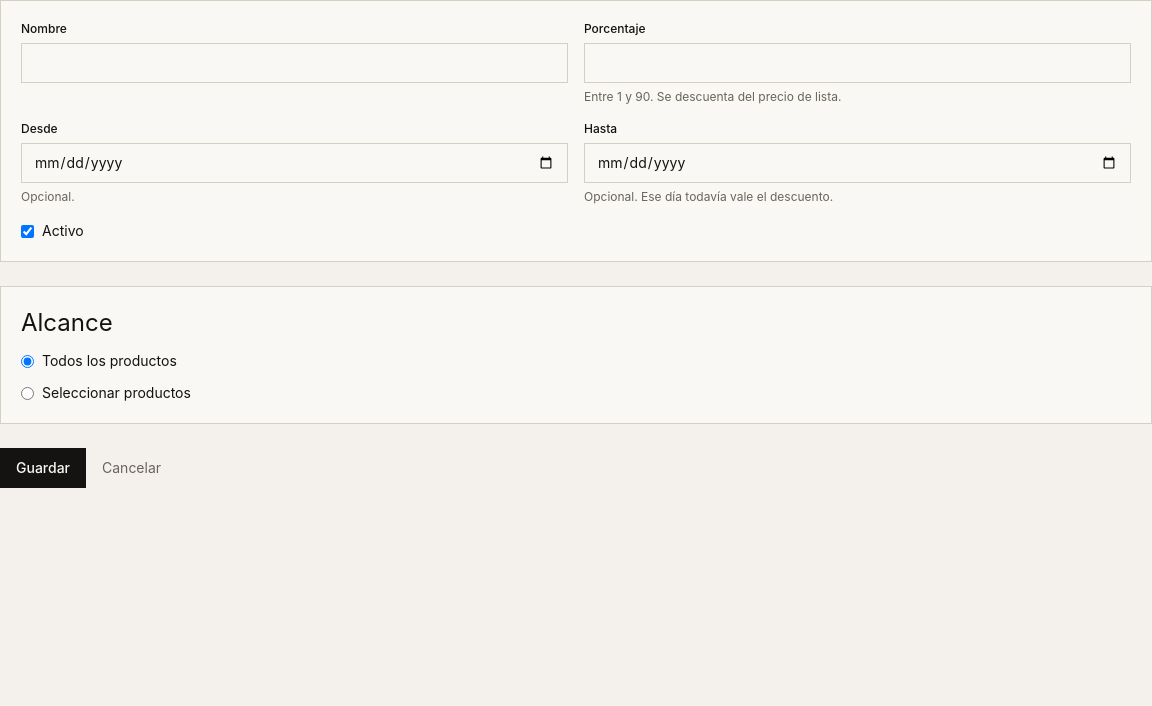
DiscountForm › shows the picker only for the selected scope
The image size is (1152, 706).
Click the radio button labelled "Seleccionar productos".
click(28, 393)  # box [21, 386, 34, 400]
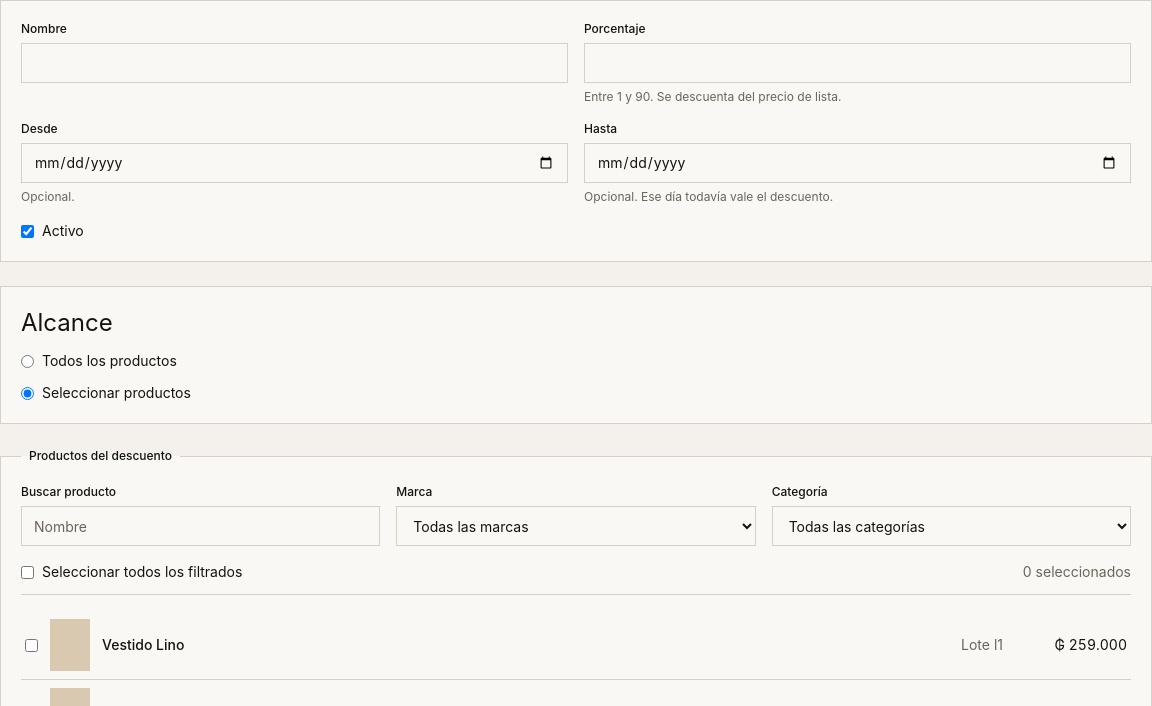
Check: the text "0 seleccionados" is shown, box [1023, 562, 1131, 582]
Click the radio button labelled "Todos los productos".
click(28, 361)  # box [21, 354, 34, 368]
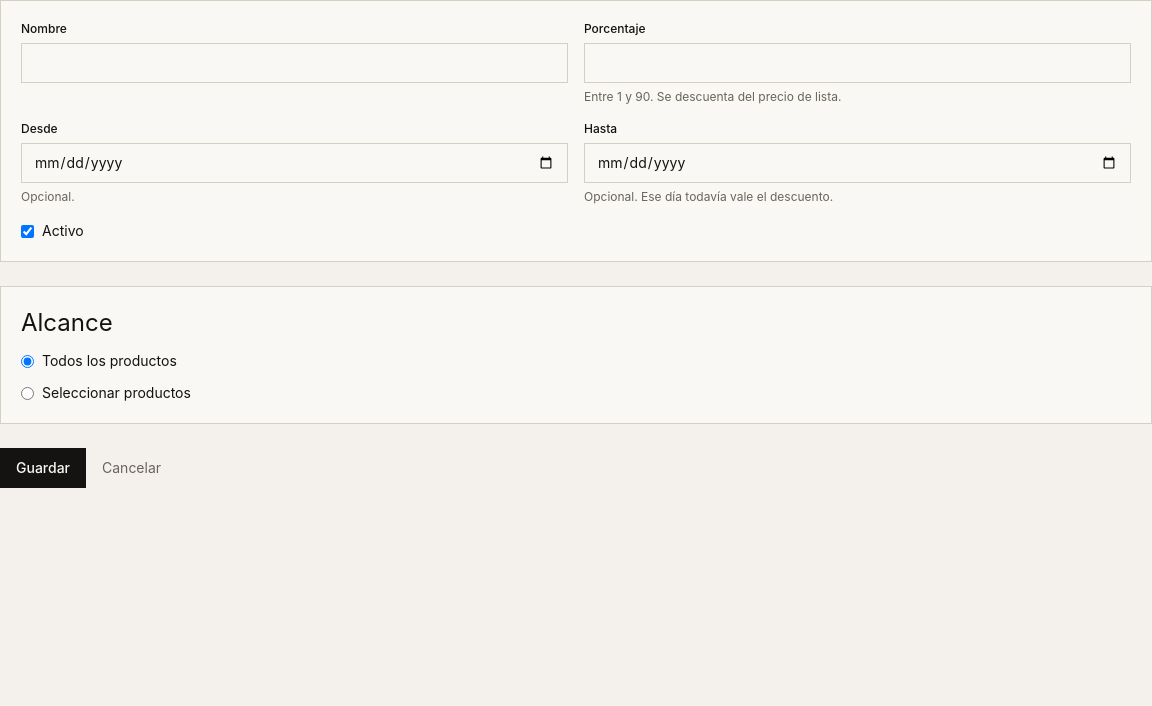
Check: the text "Productos del descuento" is gone
